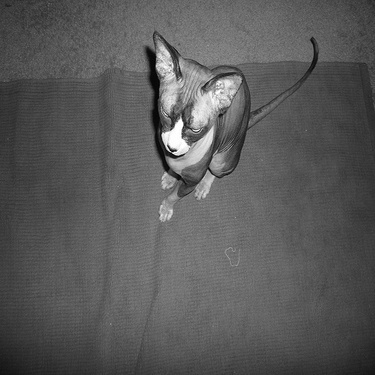cat: (146, 33, 321, 227)
